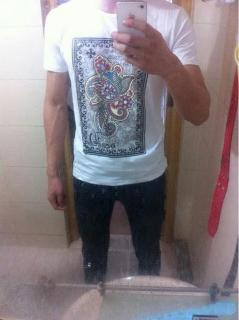short sleeve top: (43, 0, 199, 186)
trousers: (74, 165, 167, 283)
